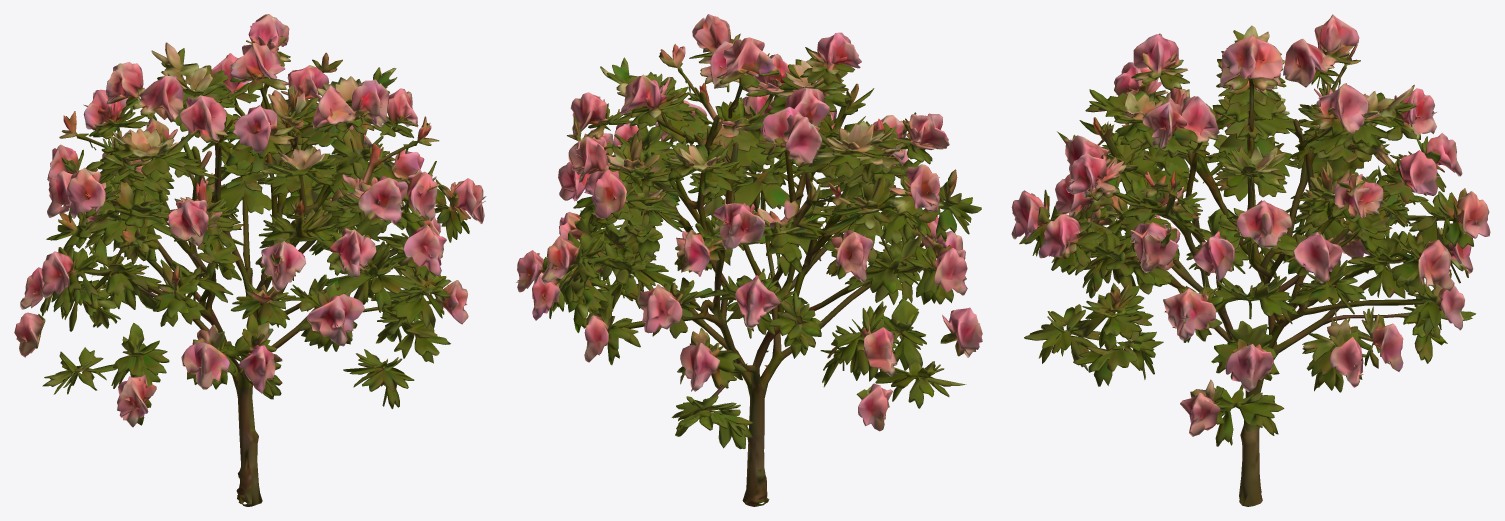
The model's file is DuJuan.glb.
The picture shows the model from 3 angles, left to right: view 1: azimuth 30°, elevation 25°; view 2: azimuth 150°, elevation 25°; view 3: azimuth 270°, elevation 25°; orthographic projection. The views are drawn at different scales.
Visible parts, largest first — view 1: tripo_node_fddd29b6-0053-495b-af3b-f7659c8498b3; view 2: tripo_node_fddd29b6-0053-495b-af3b-f7659c8498b3; view 3: tripo_node_fddd29b6-0053-495b-af3b-f7659c8498b3.
Boxes of the visible parts, x1=… form: tripo_node_fddd29b6-0053-495b-af3b-f7659c8498b3: x1=14, y1=14, x2=486, y2=506; tripo_node_fddd29b6-0053-495b-af3b-f7659c8498b3: x1=516, y1=14, x2=982, y2=506; tripo_node_fddd29b6-0053-495b-af3b-f7659c8498b3: x1=1011, y1=14, x2=1490, y2=506.
Size of the model in its own units: 0.9272 by 0.9811 by 0.9066.
Materials: 1 (1 with a texture image).
